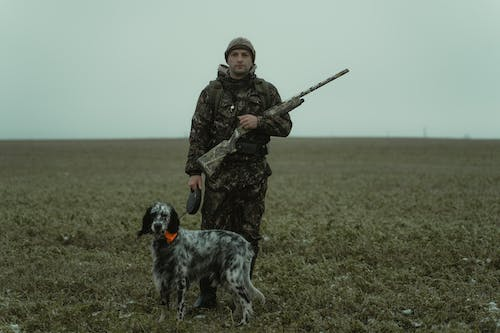gun: (194, 67, 351, 178)
